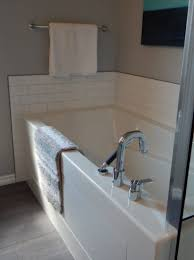bathub: (22, 98, 194, 260)
